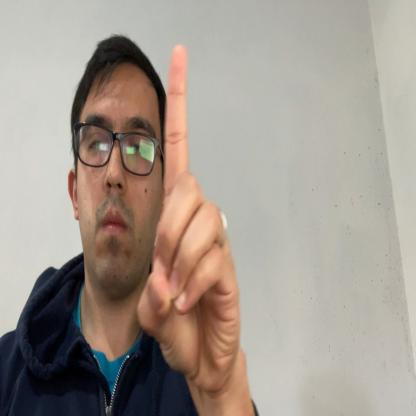D: (136, 42, 240, 388)
